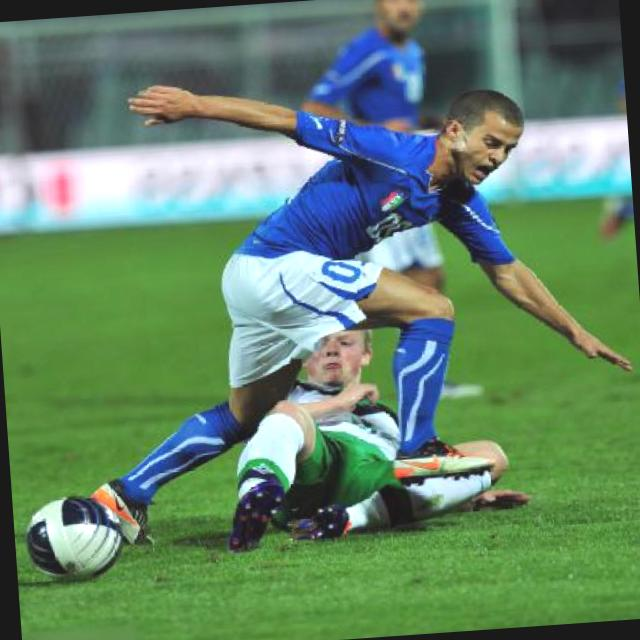Person: (55, 73, 640, 574)
